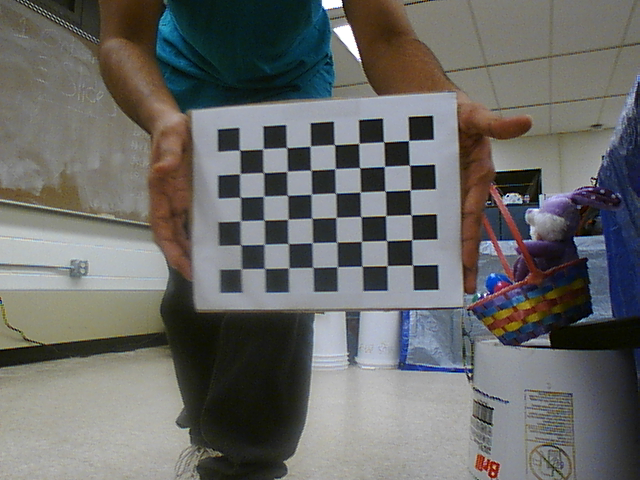bunny: (478, 185, 601, 346)
